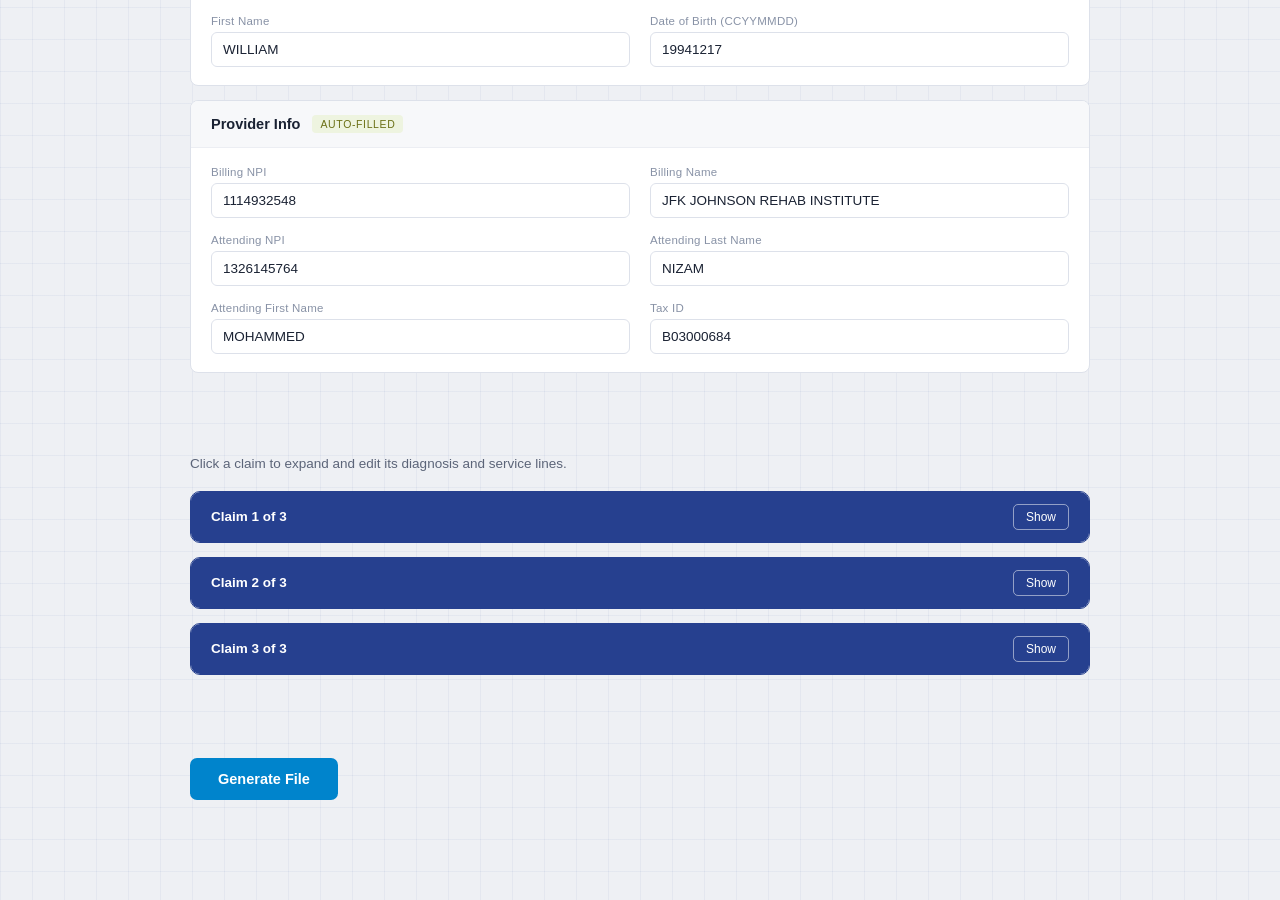
Test: the generate button › surfaces a refusal from the generator
The image size is (1280, 900).
(page scrolled)
Click the button "Generate File": click(264, 778) left=190, top=758, right=338, bottom=800
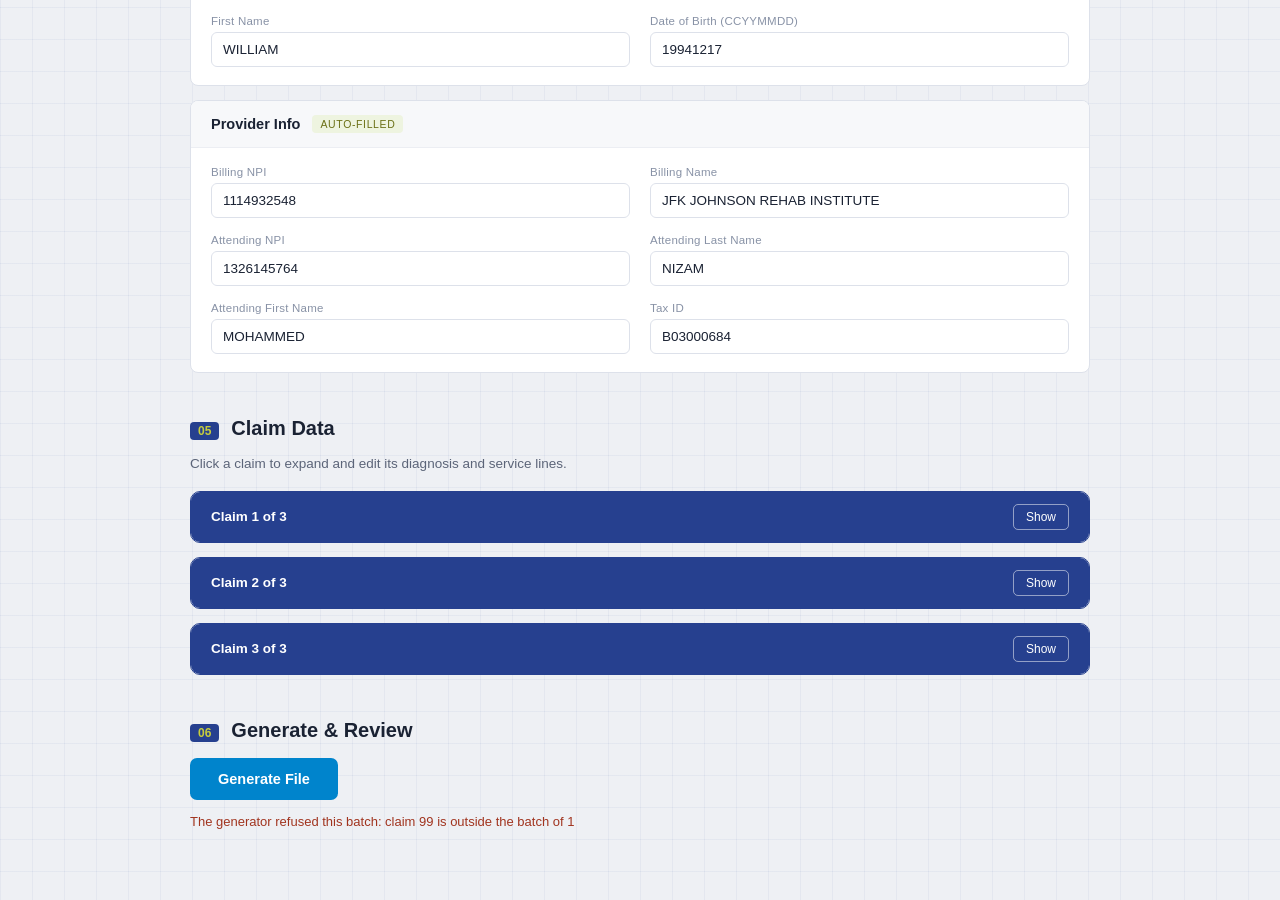
Check: the text "outside the batch of 1" is shown, box left=190, top=814, right=574, bottom=828
